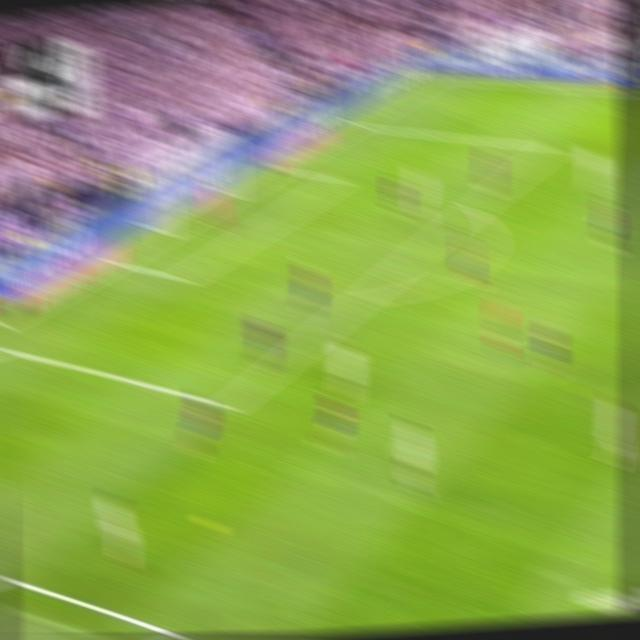bigarea_bottom_inner: (219, 391, 240, 420)
bigarea_top_inner: (542, 138, 559, 157)
bigarea_top_outter: (346, 115, 366, 132)
bottom_arc_area_intersection: (353, 285, 375, 309)
corner: (426, 73, 442, 84)
smallarea_bottom_inner: (175, 268, 194, 289)
smallarea_top_inner: (332, 170, 348, 187)
top_arc_area_intersection: (465, 198, 484, 218)
